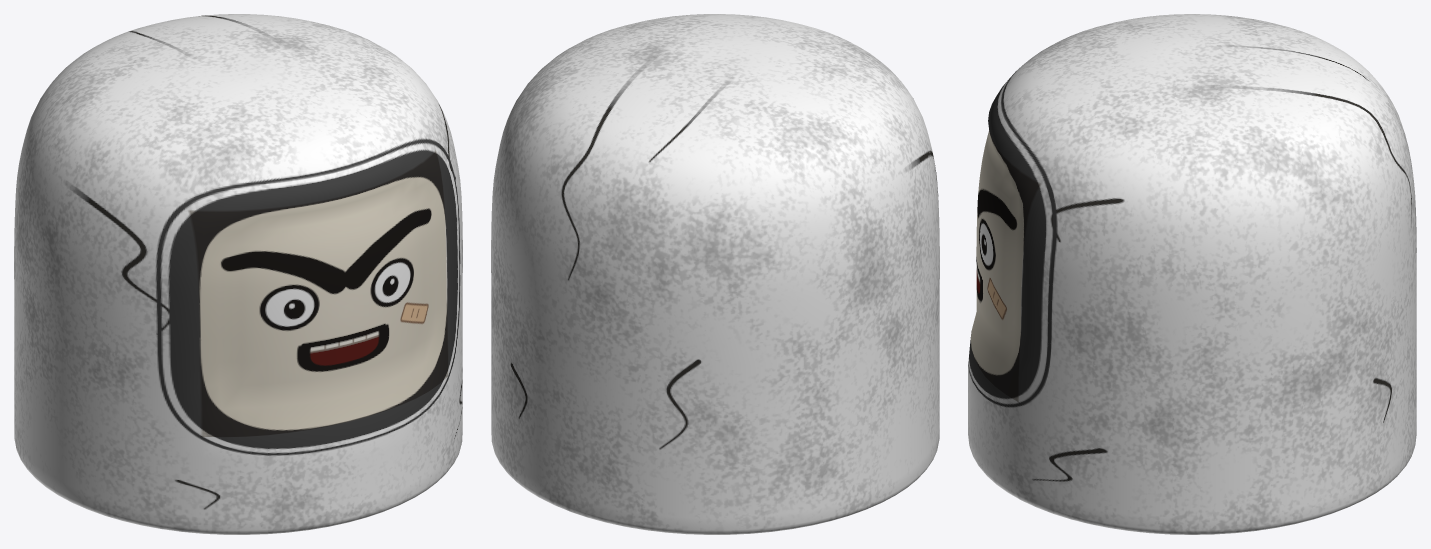
File: iwadaru.fbx
3 renders of one model, left to right at view 1: azimuth 30°, elevation 25°; view 2: azimuth 150°, elevation 25°; view 3: azimuth 270°, elevation 25°, orthographic.
Visible parts, largest first — view 1: iwadaru; view 2: iwadaru; view 3: iwadaru.
Boxes of the visible parts, x1,y1,x2,y2 form: iwadaru: (14, 14, 462, 534); iwadaru: (491, 14, 939, 534); iwadaru: (968, 14, 1416, 534).
Bounding box in the file's own units: 1 × 0.9425 × 1.
Materials: 1 (1 with a texture image).
